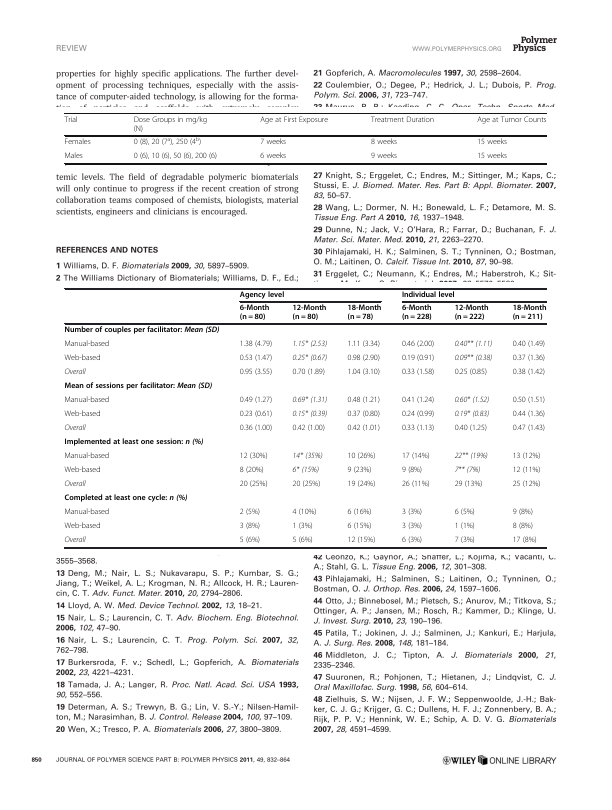borderless: (63, 287, 546, 547), (63, 112, 546, 163)
cell: (64, 326, 220, 336), (64, 382, 213, 392), (64, 438, 204, 448), (133, 116, 208, 134), (64, 494, 188, 504), (133, 152, 218, 162), (133, 136, 202, 148), (292, 304, 327, 323), (347, 304, 382, 323), (454, 304, 489, 323), (512, 304, 547, 323), (476, 116, 547, 125), (259, 116, 329, 125), (401, 304, 433, 323), (239, 304, 270, 323), (370, 116, 435, 125), (401, 291, 456, 300), (239, 291, 285, 300), (64, 340, 110, 349), (64, 396, 110, 405), (64, 452, 110, 461), (64, 508, 110, 517), (454, 340, 493, 349), (454, 354, 493, 363), (64, 354, 101, 363), (64, 410, 101, 419), (64, 466, 101, 475), (64, 522, 101, 531), (292, 340, 328, 349), (292, 354, 328, 363), (292, 396, 328, 405), (454, 396, 490, 405), (292, 410, 328, 419), (454, 410, 490, 419), (476, 138, 508, 148), (476, 152, 508, 162), (454, 452, 489, 461), (239, 340, 273, 349), (347, 340, 381, 349), (401, 340, 435, 349), (512, 340, 546, 349), (239, 354, 273, 363), (347, 354, 381, 363), (401, 354, 435, 363), (512, 354, 546, 363), (239, 368, 273, 377), (292, 368, 326, 377), (347, 368, 381, 377), (401, 368, 435, 377), (454, 368, 488, 377), (512, 368, 546, 377), (239, 396, 273, 405), (347, 396, 381, 405), (401, 396, 435, 405), (512, 396, 546, 405), (239, 410, 273, 419), (347, 410, 381, 419), (401, 410, 435, 419), (512, 410, 546, 419), (239, 424, 273, 433), (292, 424, 326, 433), (347, 424, 381, 433), (401, 424, 435, 433), (454, 424, 488, 433), (512, 424, 546, 433), (259, 138, 287, 148), (370, 138, 398, 148), (259, 152, 287, 162), (370, 152, 398, 162), (292, 452, 323, 461), (64, 138, 91, 148), (401, 452, 431, 461), (401, 480, 431, 489), (239, 452, 268, 461), (347, 452, 376, 461), (512, 452, 541, 461), (512, 466, 541, 475), (239, 480, 268, 489), (292, 480, 321, 489), (347, 480, 376, 489), (454, 480, 483, 489), (512, 480, 541, 489), (347, 536, 376, 545), (292, 466, 320, 475), (454, 466, 481, 475), (239, 466, 265, 475), (512, 536, 538, 545), (347, 466, 372, 475), (292, 508, 317, 517), (347, 508, 372, 517), (347, 522, 372, 531), (63, 152, 84, 162), (64, 368, 87, 377), (64, 424, 87, 433), (64, 480, 87, 489), (64, 536, 87, 545), (401, 466, 423, 475), (239, 508, 261, 517), (401, 508, 423, 517), (454, 508, 476, 517), (512, 508, 534, 517), (239, 522, 261, 531), (292, 522, 314, 531), (401, 522, 423, 531), (454, 522, 476, 531), (512, 522, 534, 531), (239, 536, 261, 545), (292, 536, 314, 545), (401, 536, 423, 545), (454, 536, 476, 545), (64, 116, 78, 125)
